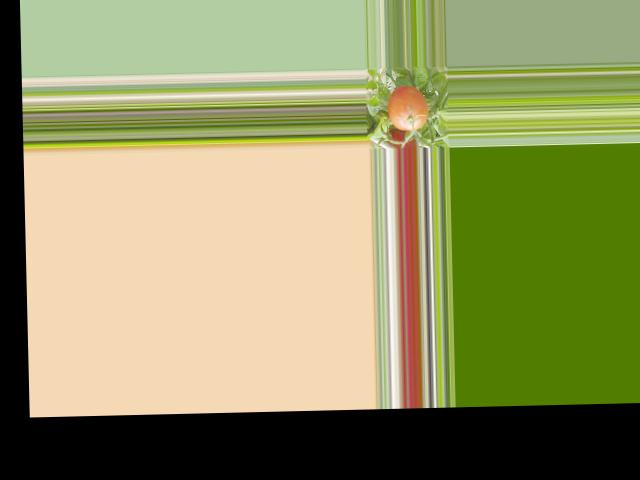tomato: (388, 86, 428, 131)
